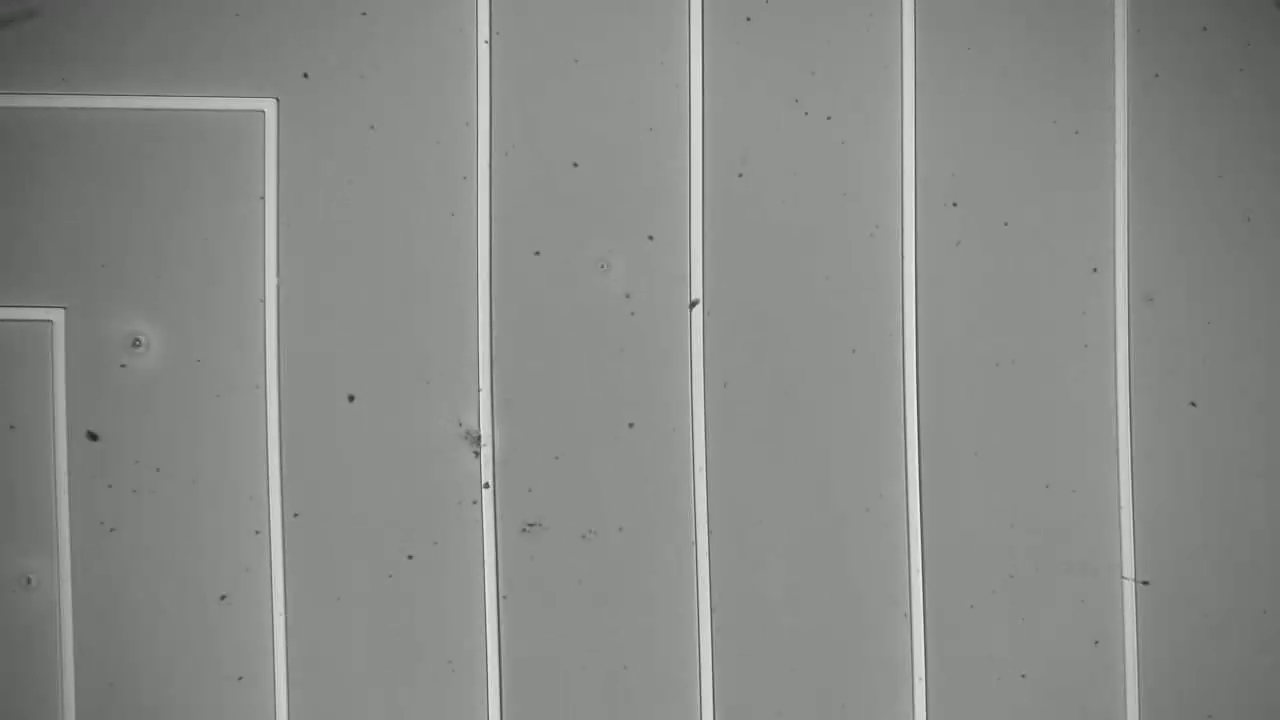stains_enbedded: (684, 292, 707, 312)
